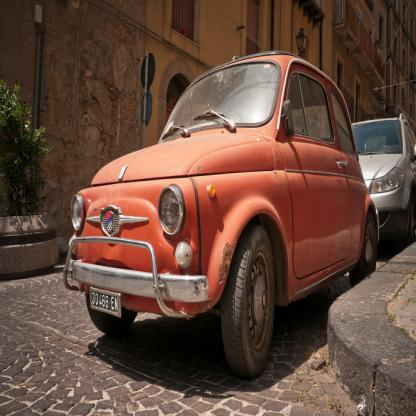Car: (64, 52, 380, 379), (352, 111, 416, 244)
